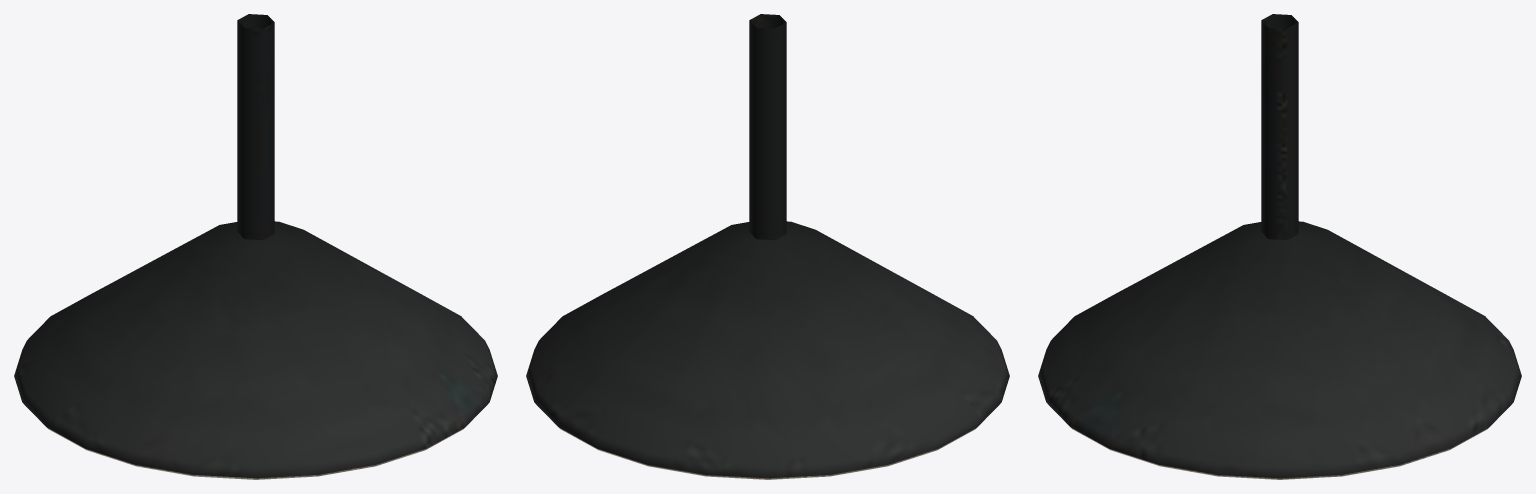
Rendered from lamp.fbx.
3 views of the same model, side by side, from view 1: azimuth 30°, elevation 25°; view 2: azimuth 150°, elevation 25°; view 3: azimuth 270°, elevation 25° (orthographic).
Visible parts, largest first — view 1: Cylinder.001; view 2: Cylinder.001; view 3: Cylinder.001.
Part boxes in pixels (box(x1,y1,x2,y2)): Cylinder.001: box(14, 14, 497, 479); Cylinder.001: box(526, 14, 1009, 479); Cylinder.001: box(1038, 14, 1521, 479).
Bounding box in the file's own units: 58.94 × 48.31 × 58.94.
